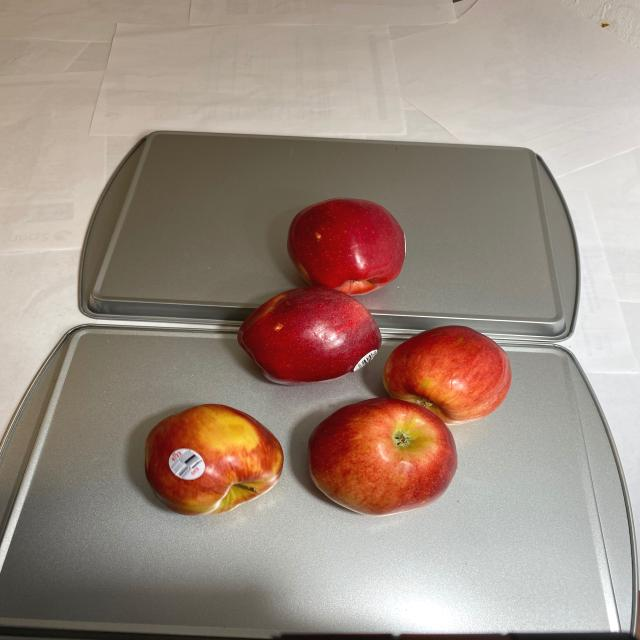apple: (142, 196, 510, 514)
